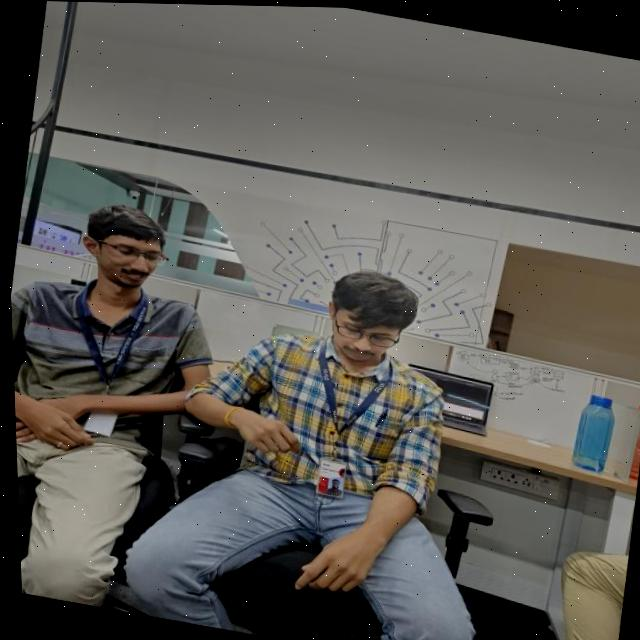id_card: (292, 337, 397, 506), (53, 280, 152, 444)
